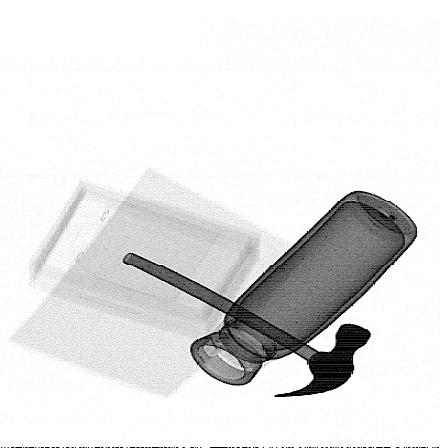Hammer: (122, 251, 371, 398)
